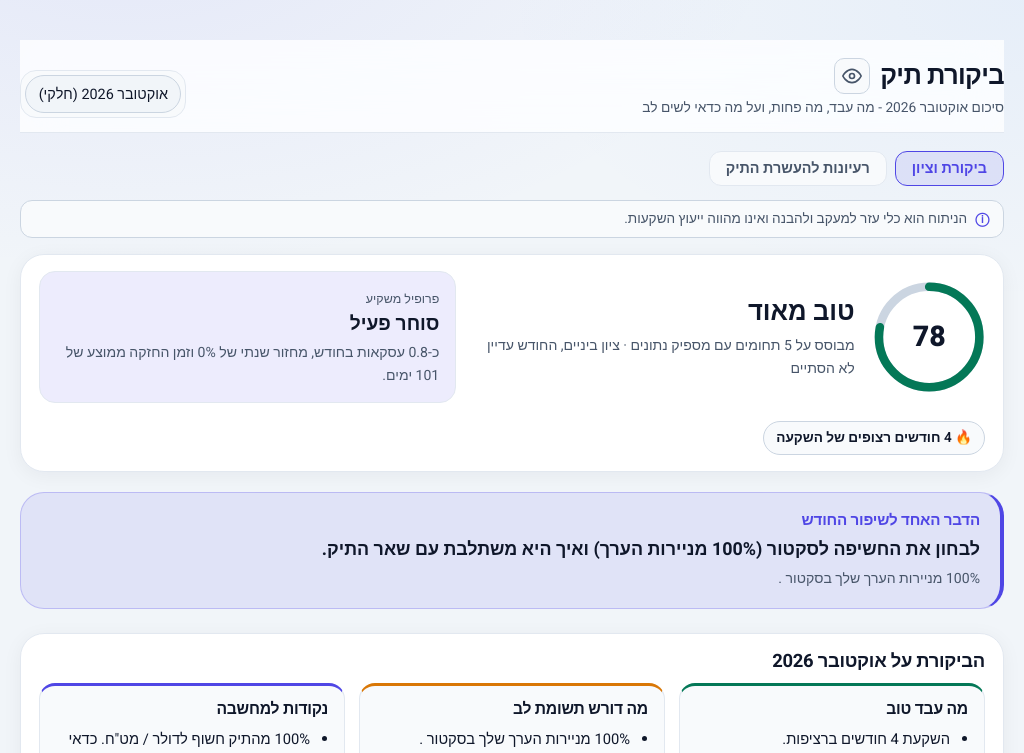
Test case: PortfolioReviewView › opens the ideas tab: its own disclaimer, both kinds of ideas, drawbacks on every card
Click the tab "רעיונות להעשרת התיק" at (798, 168), box left=709, top=151, right=887, bottom=186
(page scrolled)
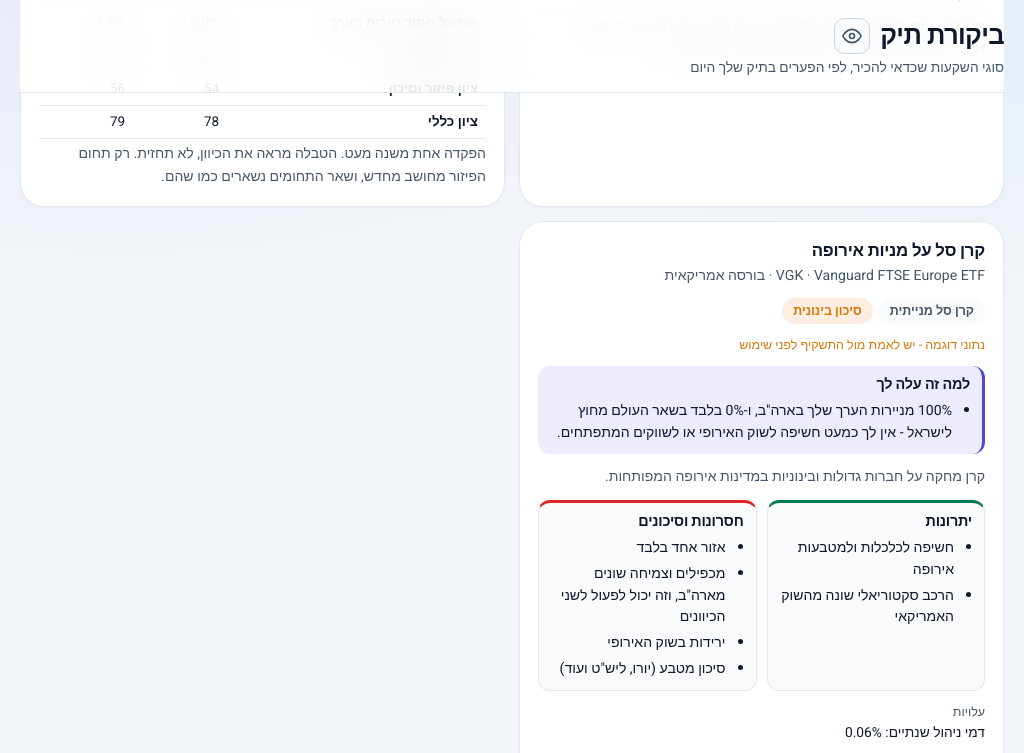
Check: the field labelled "בחירת חודש" is not shown
Check: the heading "חסרונות וסיכונים" is shown, box left=638, top=511, right=744, bottom=532
Check: the heading "למה זה עלה לך" is shown, box left=876, top=374, right=970, bottom=395
